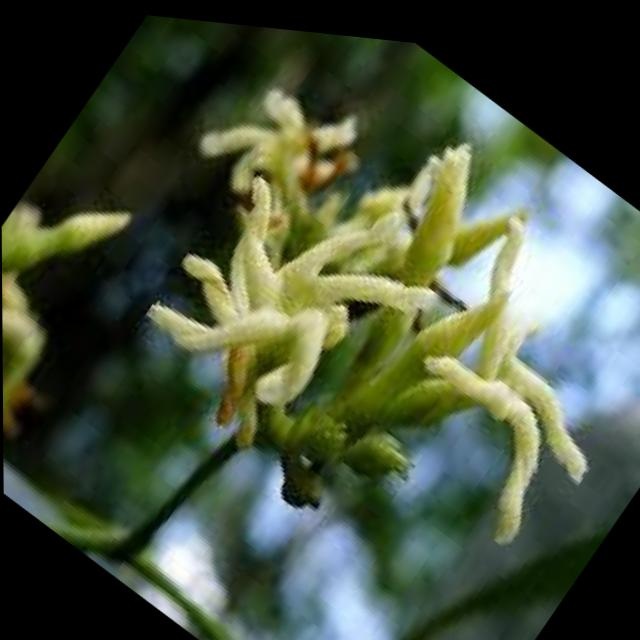Flower: (342, 180, 640, 579), (121, 120, 436, 466)
